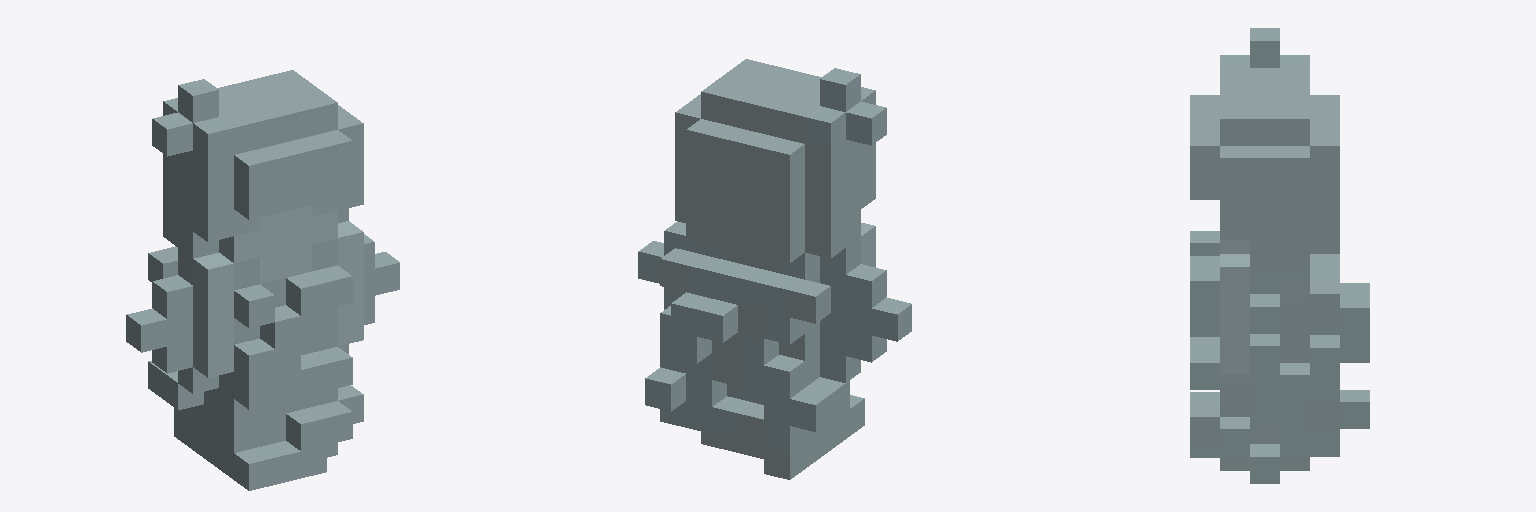
3 renders of one model, left to right at view 1: azimuth 30°, elevation 25°; view 2: azimuth 150°, elevation 25°; view 3: azimuth 270°, elevation 25°, orthographic.
Visible parts, largest first — view 1: girl2-3; view 2: girl2-3; view 3: girl2-3.
Boxes of the visible parts, box(x1,y1,x2,y2) form: girl2-3: box(126, 70, 399, 490); girl2-3: box(638, 59, 911, 479); girl2-3: box(1190, 28, 1369, 483).
Size of the model in its own units: 10 by 14 by 6.
Materials: 1 (1 with a texture image).